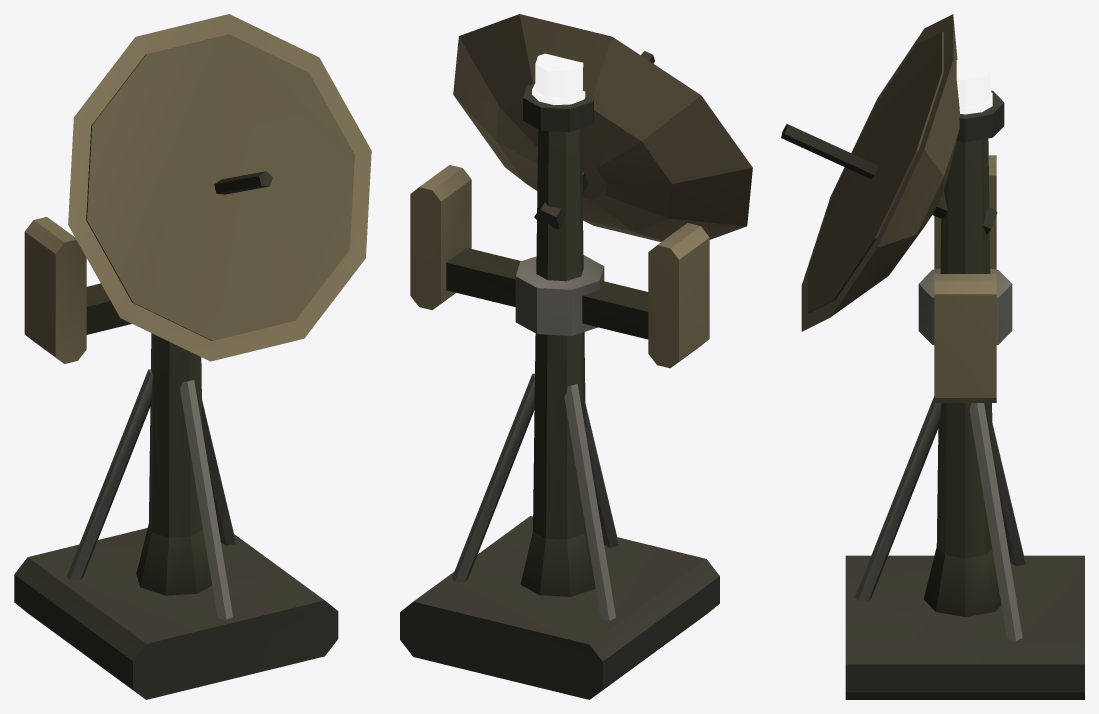
Rendered from sensor-mast.glb.
The picture shows the model from 3 angles, left to right: view 1: azimuth 30°, elevation 25°; view 2: azimuth 150°, elevation 25°; view 3: azimuth 270°, elevation 25°; orthographic projection. The views are drawn at different scales.
Parts seen in each view (by area): view 1: Sweep_Mesh, Body; view 2: Sweep_Mesh, Body, Glow; view 3: Body, Sweep_Mesh, Glow.
Boxes of the visible parts, bbox=[...] form: Sweep_Mesh: bbox=[24, 14, 371, 363]; Body: bbox=[14, 333, 338, 699]; Sweep_Mesh: bbox=[410, 14, 752, 368]; Body: bbox=[400, 84, 719, 699]; Glow: bbox=[532, 53, 585, 105]; Body: bbox=[845, 90, 1084, 699]; Sweep_Mesh: bbox=[781, 14, 1012, 402]; Glow: bbox=[956, 58, 992, 114].
Bounding box in the file's own units: 0.68 × 1.31 × 0.5846.
